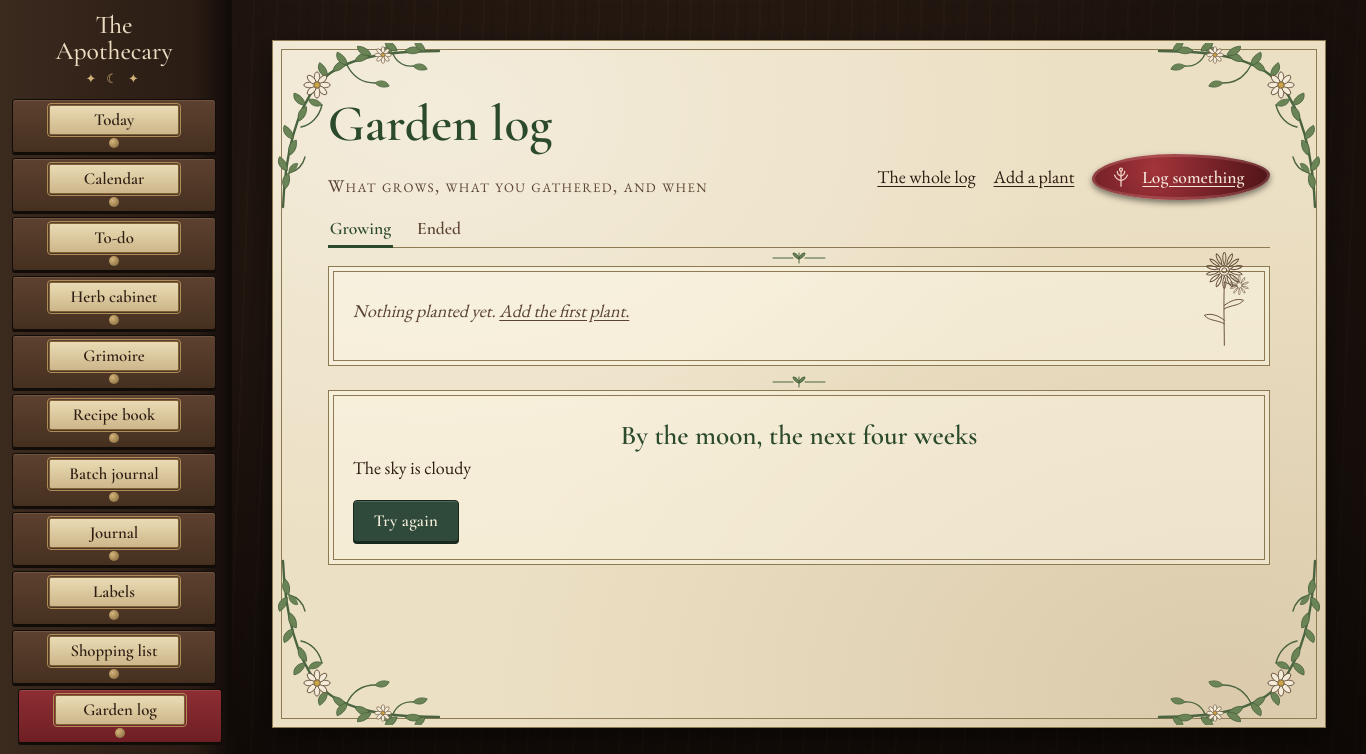
Scenario: shows an error with Try again
Expected: the text "The sky is cloudy" is shown, [353,456,471,479]
Click the button "Try again": {"x": 406, "y": 521} [353,500,459,542]
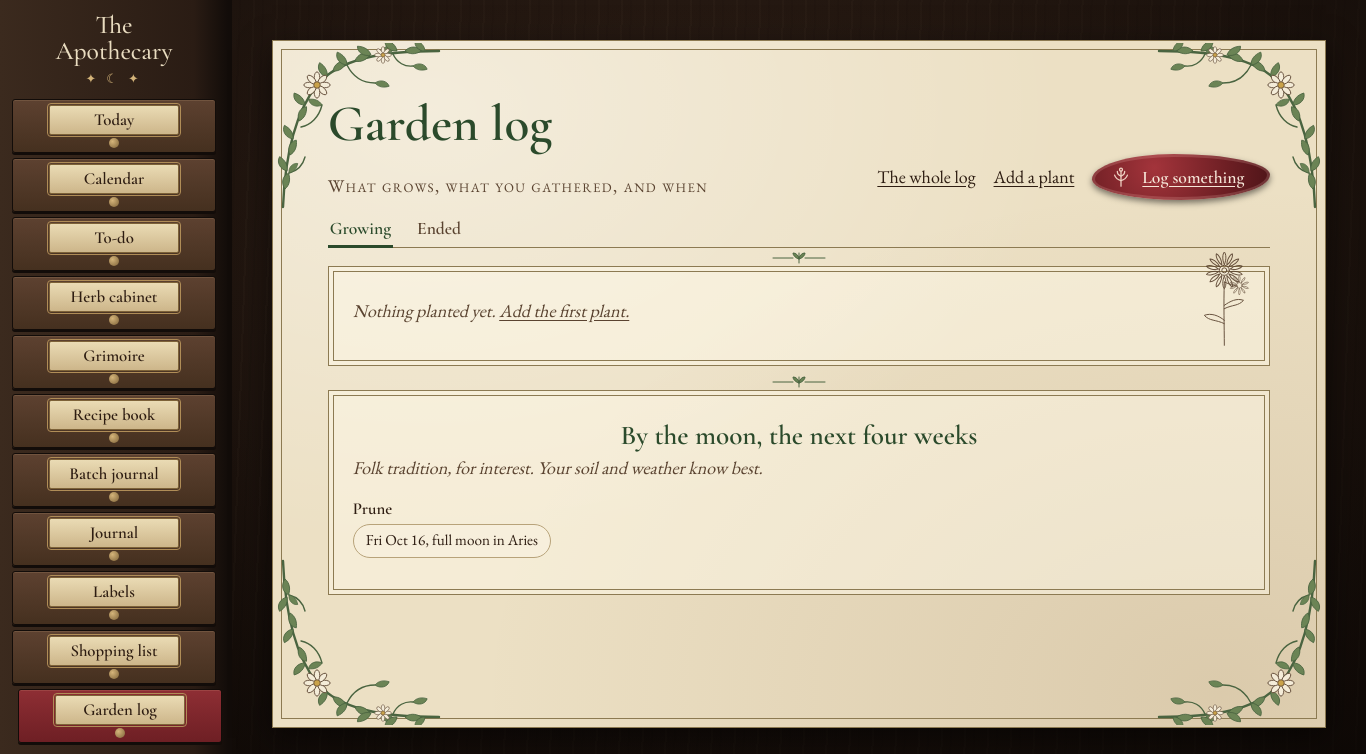
Expected: the heading "Prune" is shown, [353,498,392,519]
